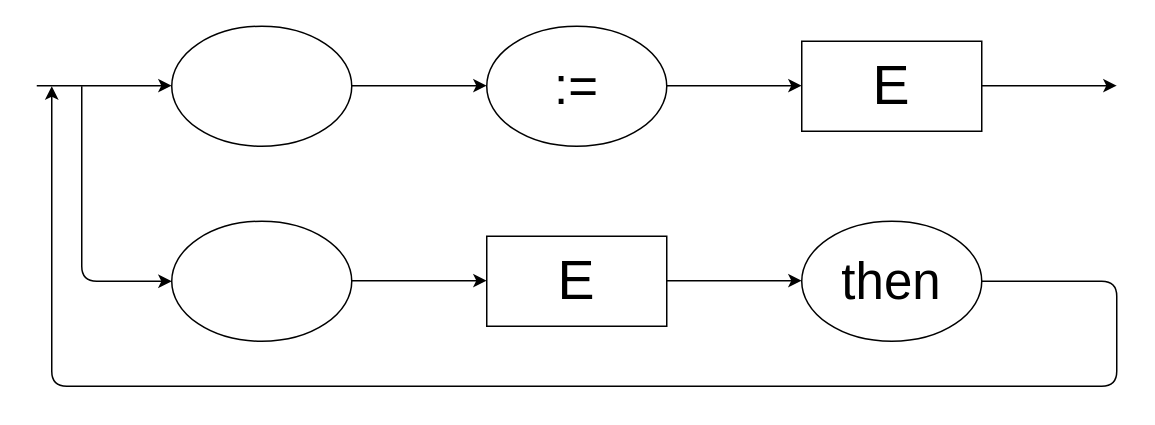
Image size: 1155x425. Some labels were removed from this diagram. The centre of each missing label's shape, as x and y in pixels:
"id" goes at (261,85).
"if" goes at (261,280).
